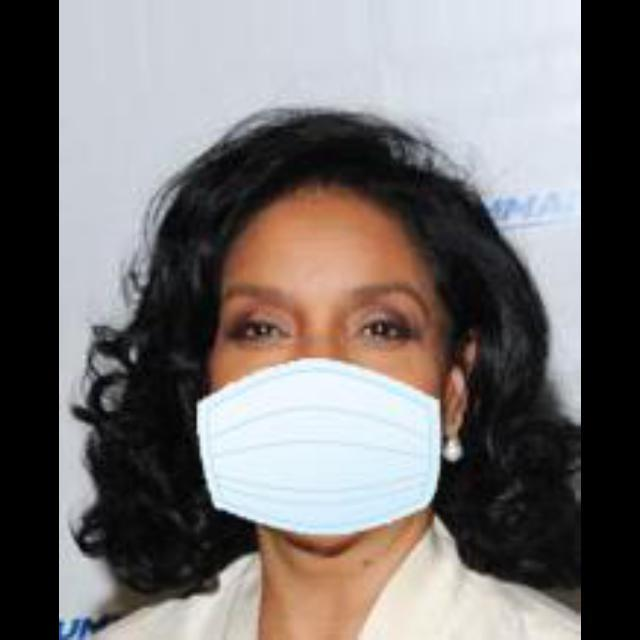suspicion: (108, 128, 542, 584)
